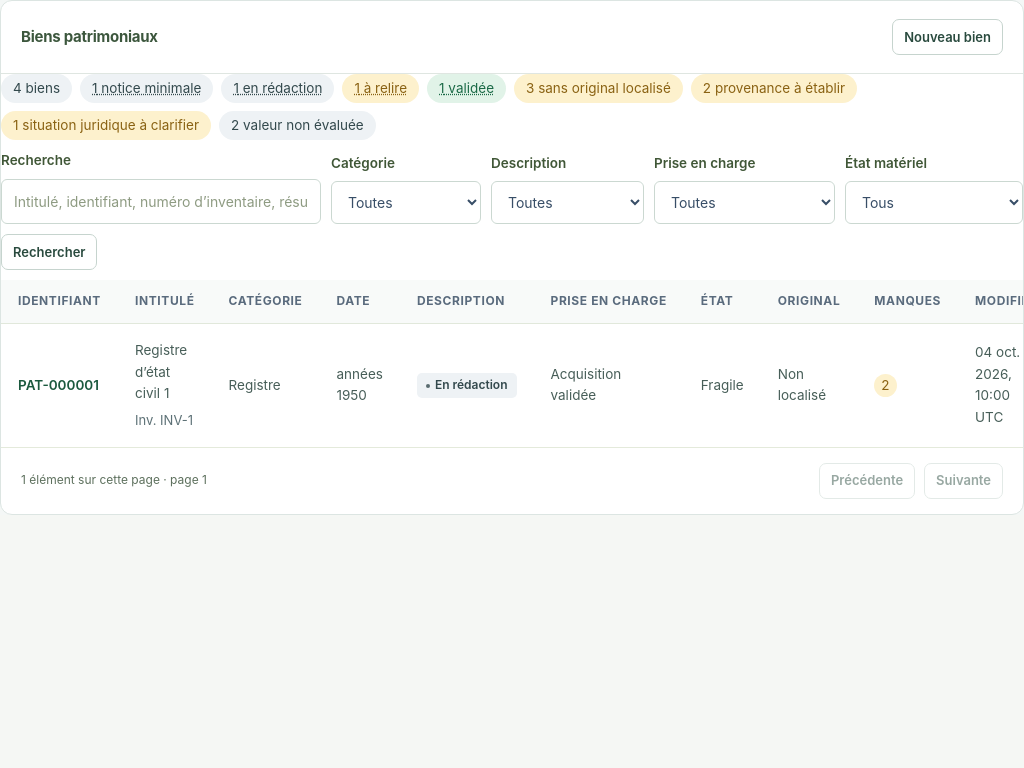
Scenario: une description en relecture prévient que la modifier la renvoie en rédaction
Click the button "PAT-000001" at (58, 385), box [18,374,99,396]
(page scrolled)
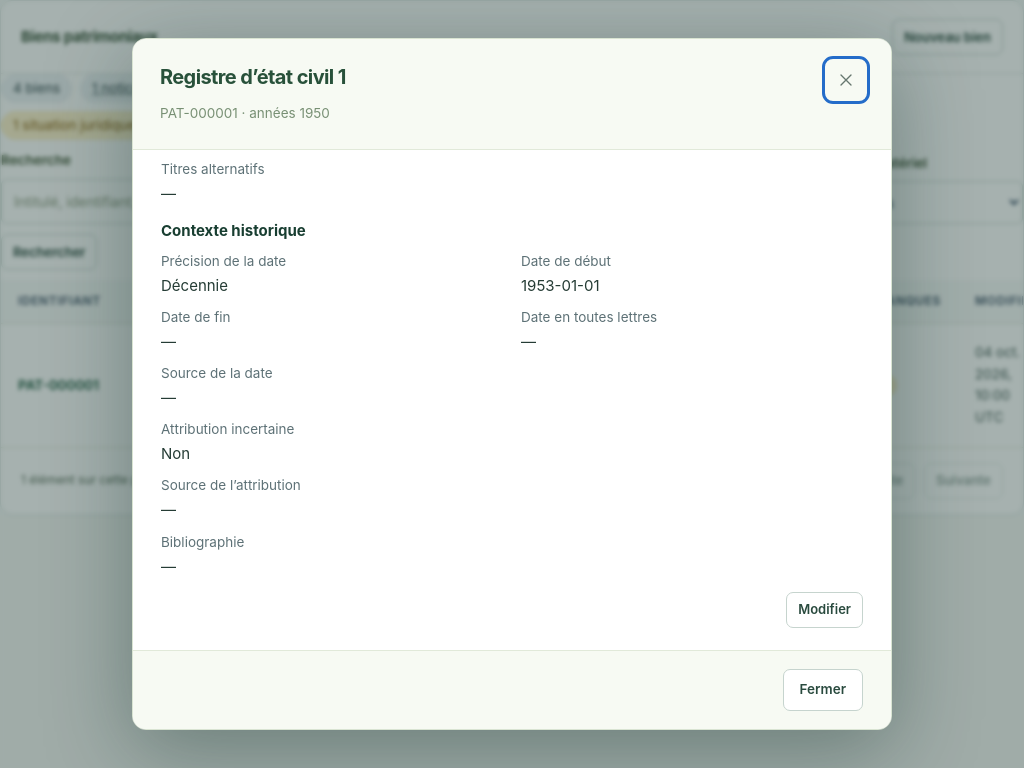
Click the button "Modifier" at (825, 610), box [786,592,863,628]
(page scrolled)
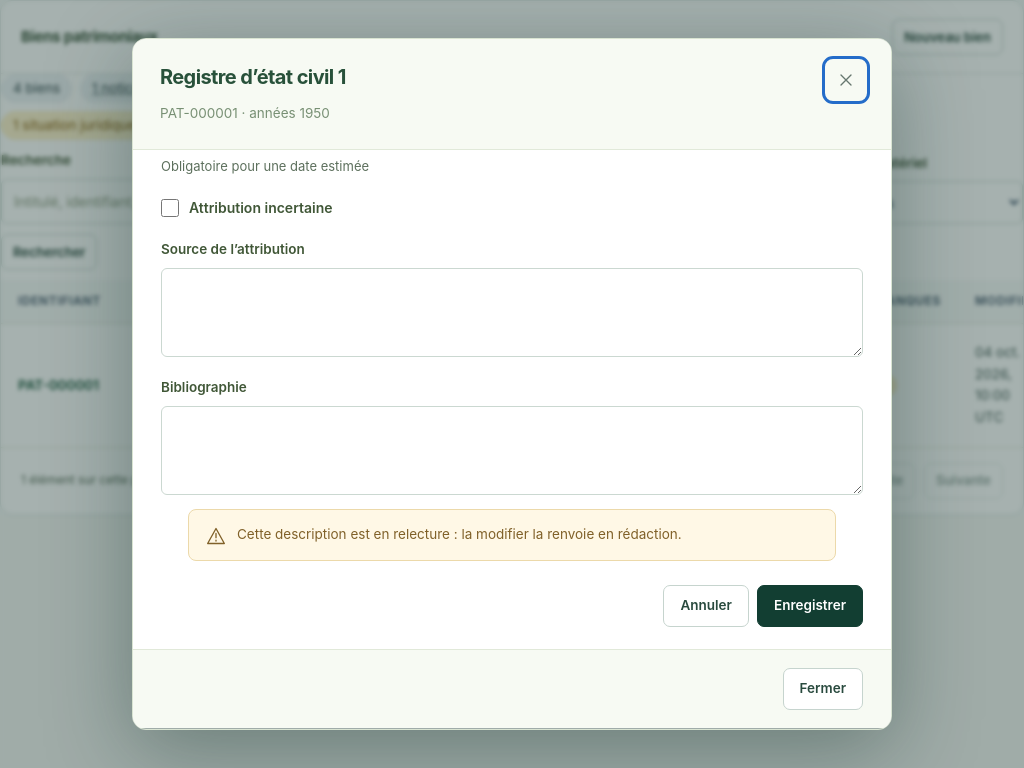
Expected: the text "la modifier la renvoie en rédaction" is shown, [237,526,682,542]
